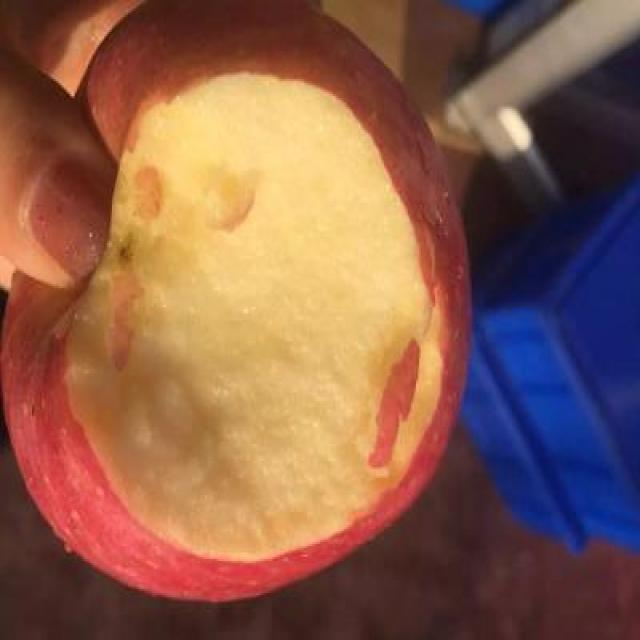Apple: (0, 2, 480, 605)
